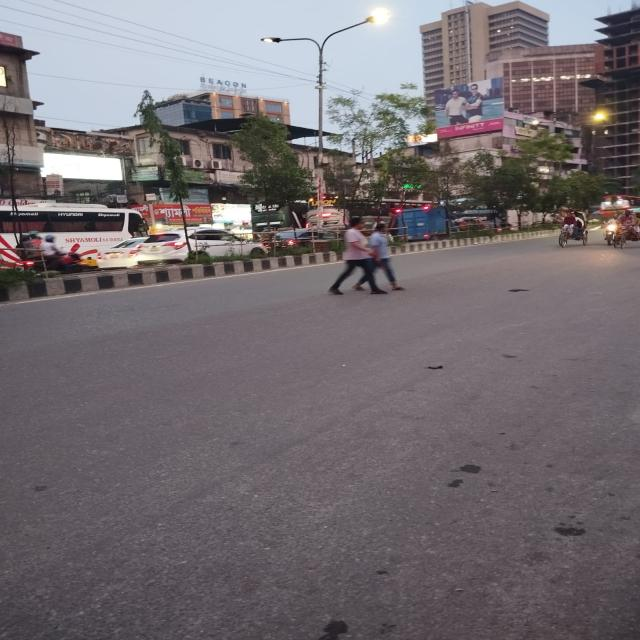person: (329, 218, 388, 295), (350, 222, 404, 291)
